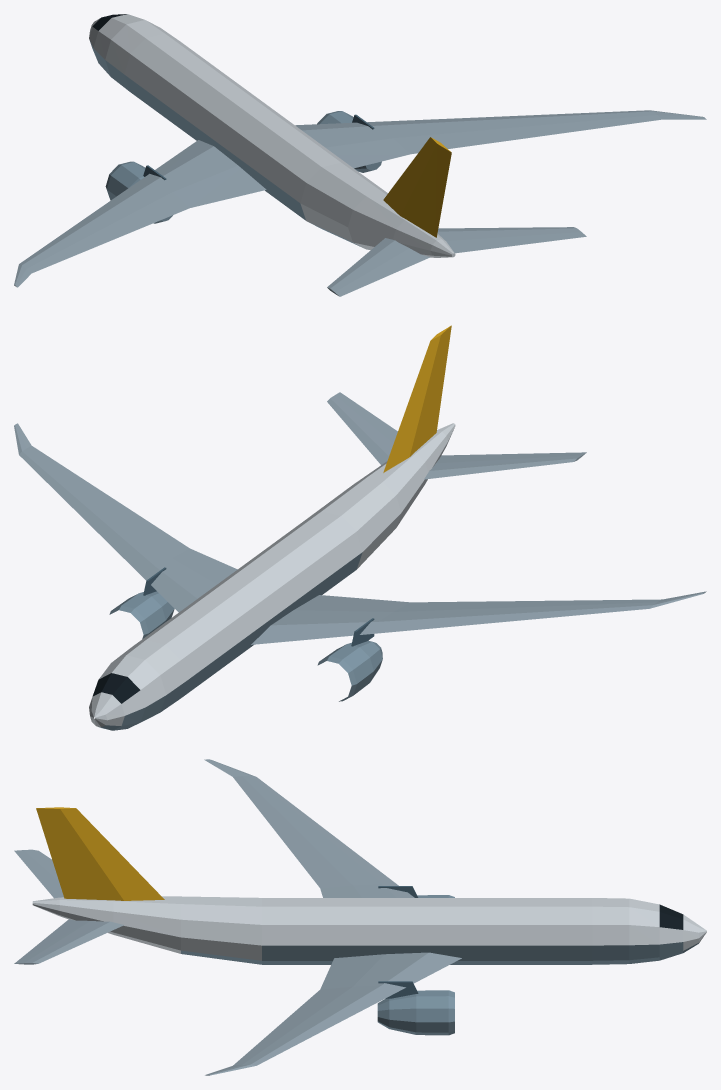
3 renders of one model, top to bottom at view 1: azimuth 30°, elevation 25°; view 2: azimuth 150°, elevation 25°; view 3: azimuth 270°, elevation 25°, orthographic. The views are drawn at different scales.
Parts seen in each view (by area): view 1: lod0; view 2: lod0; view 3: lod0.
Part boxes in pixels (x1,y1,x2,y2): lod0: (14, 14, 706, 296); lod0: (14, 325, 706, 730); lod0: (14, 759, 706, 1075).
Size of what is drawn, in the model's own units: 1.08 by 0.2813 by 1.
